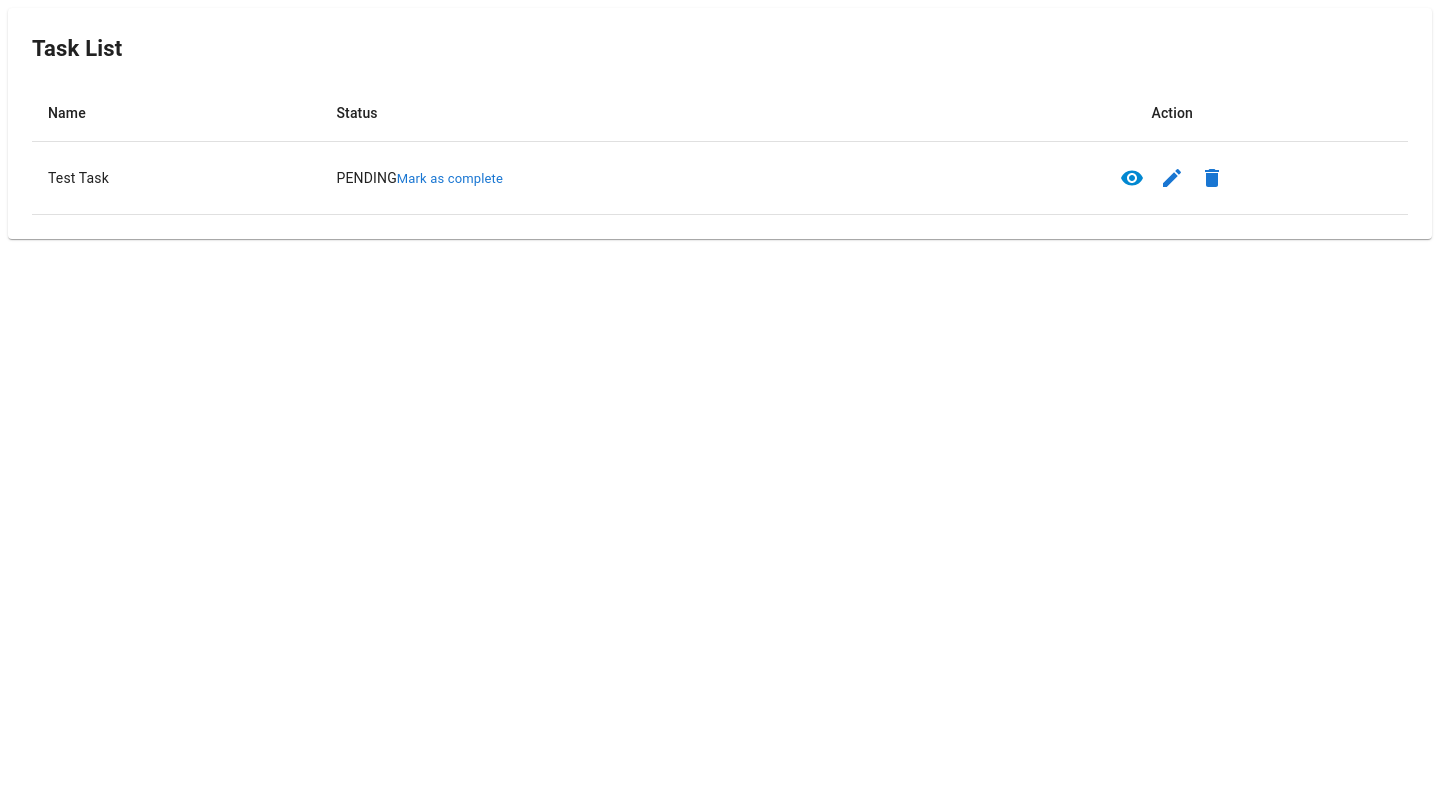
Scenario: TaskList › cancels delete confirmation dialog
Click the button named "delete-task" at point(1212, 178), box [1192,158,1232,198]
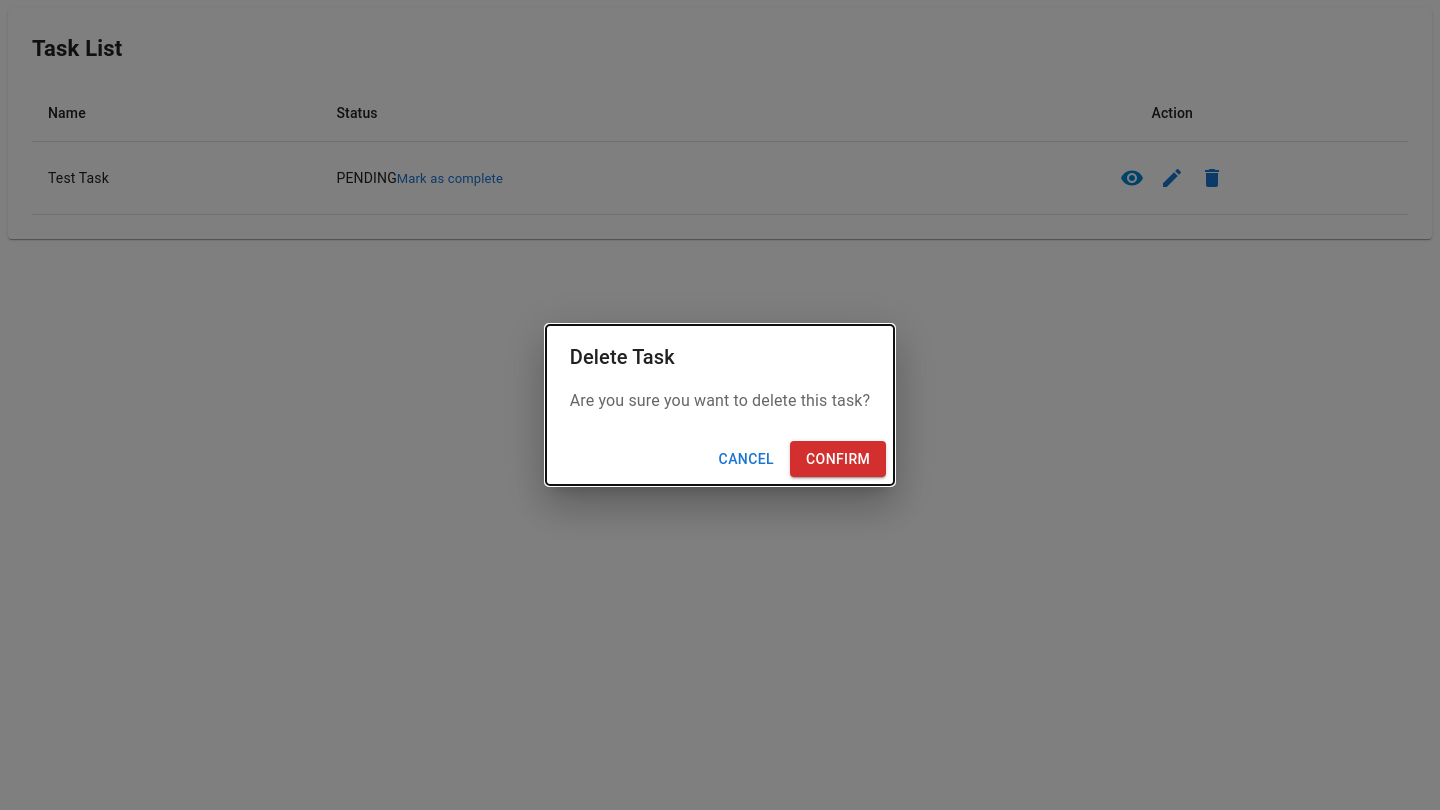
Check: the text "Are you sure you want to delete this task?" is shown, box [570,389,870,413]
Click the button "Cancel" at point(746, 459), box [711,441,782,477]
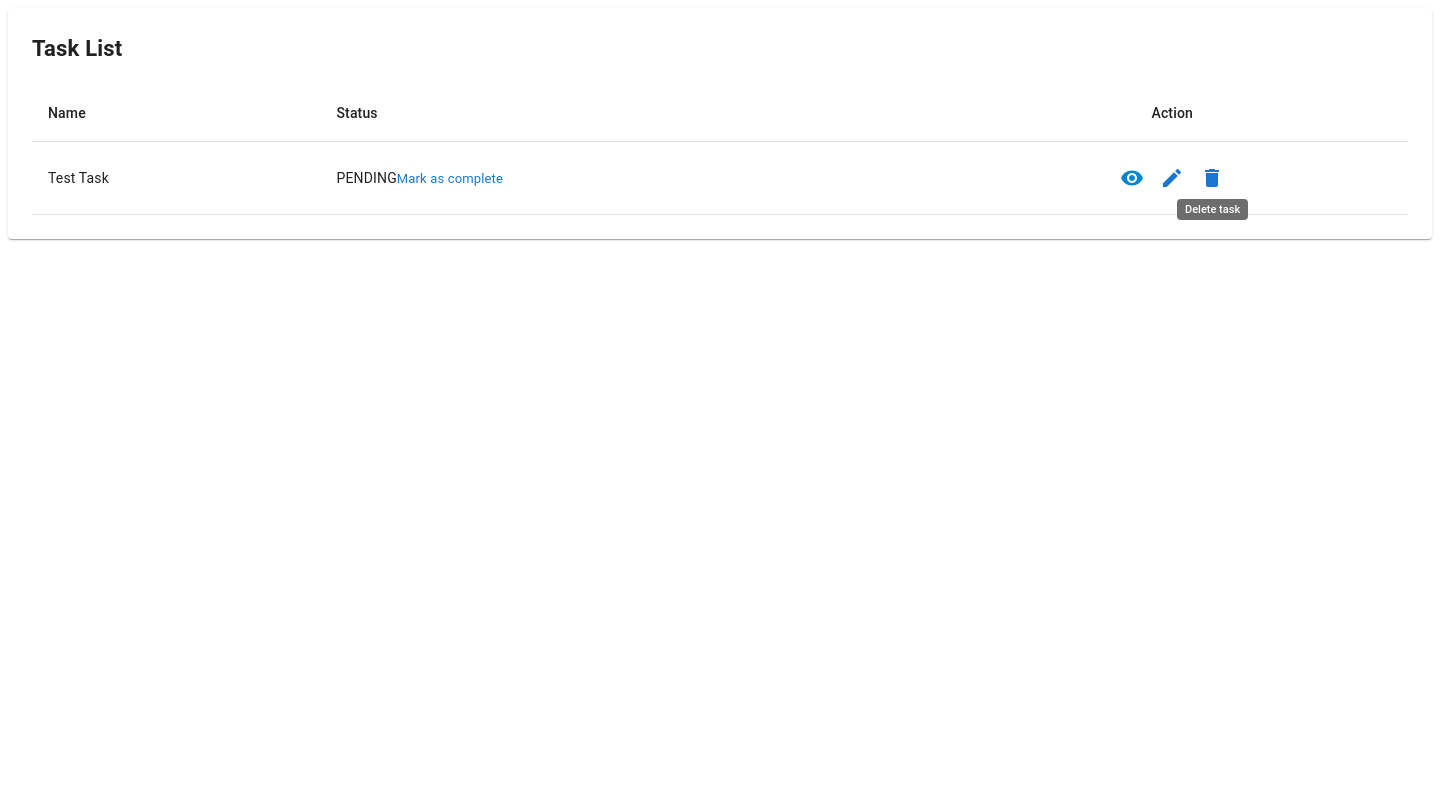
Check: the text "Are you sure you want to delete this task" is gone
